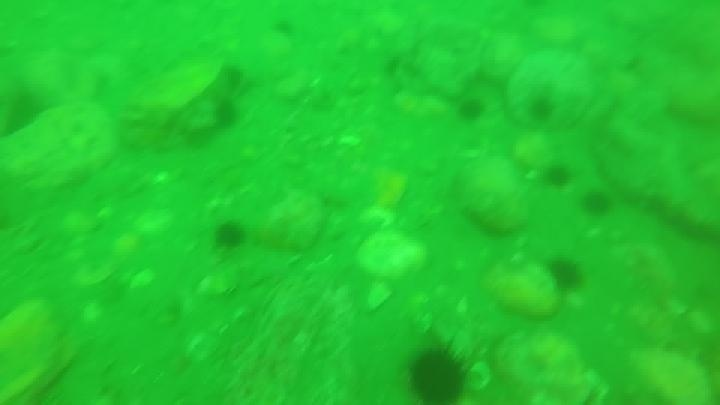echinus: (405, 344, 471, 404), (1, 88, 47, 139), (546, 256, 586, 294), (212, 220, 247, 252), (579, 189, 614, 219), (211, 98, 241, 131), (526, 94, 557, 124), (455, 96, 487, 124), (541, 163, 573, 190), (219, 63, 247, 92)
